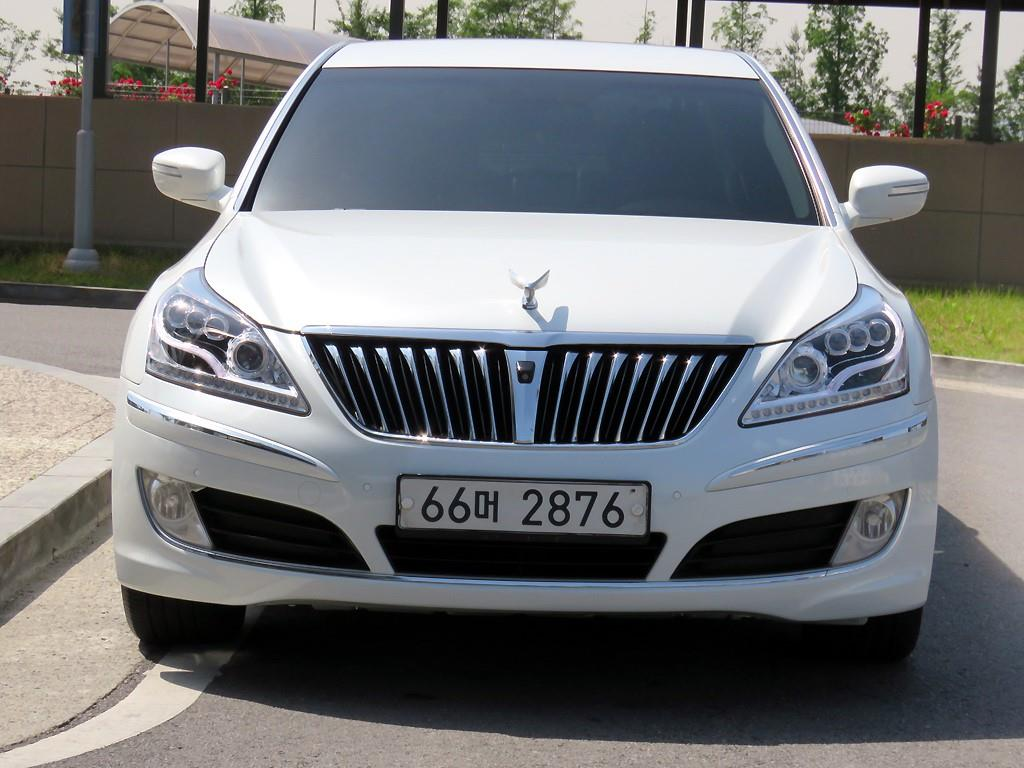plate: (400, 476, 651, 534)
